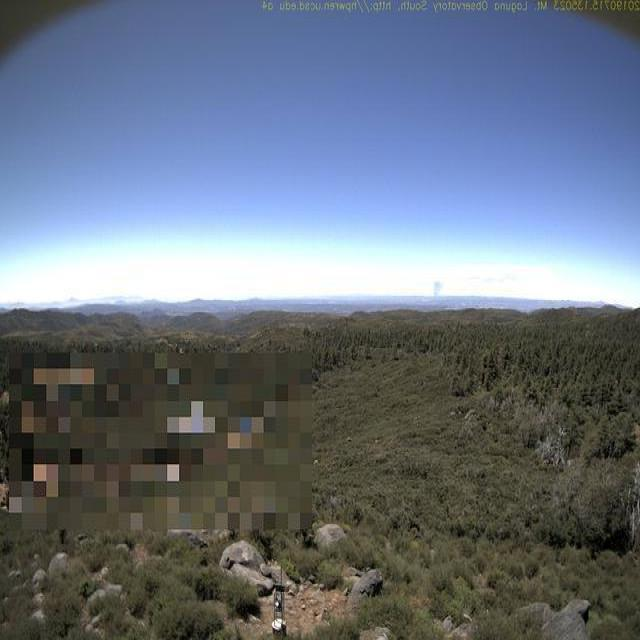Smoke: (427, 277, 446, 307)
